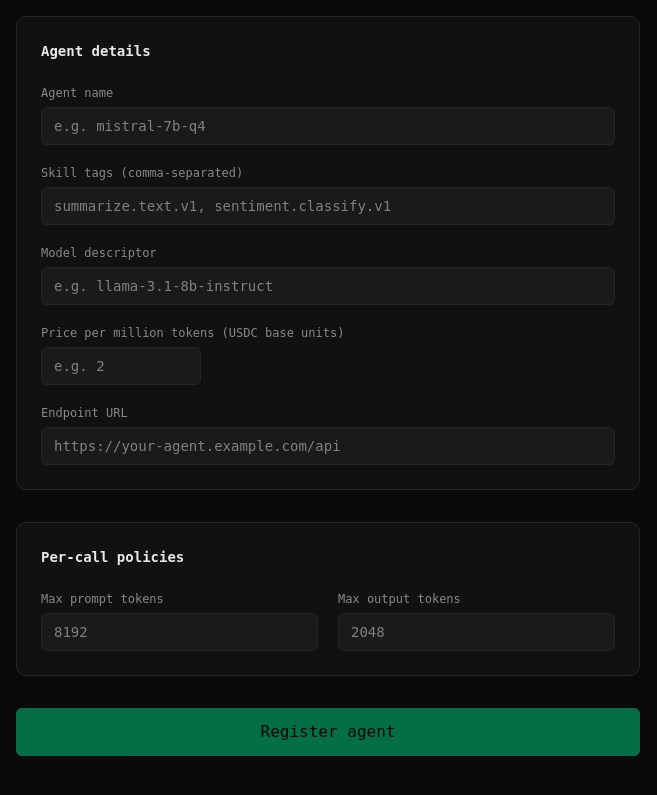
Test: SellPage — agent registration form (SPEC §3.1 story 3) › shows a validation error when endpoint URL is not a valid HTTPS URL
(page scrolled)
Type "not-a-url" into the field labelled "Endpoint URL".
click(328, 446); type("not-a-url")  # box [41,427,615,465]
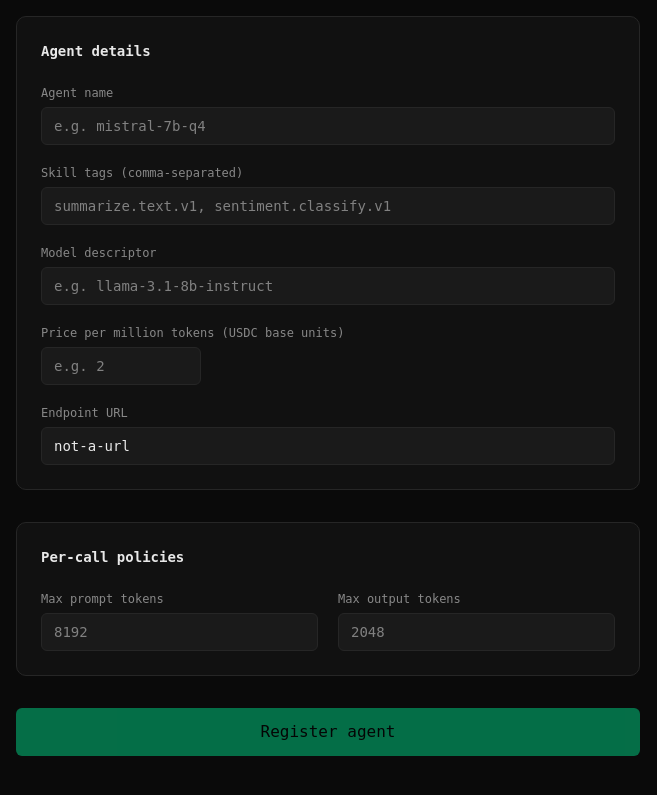
Leave the field labelled "Endpoint URL", box [41,427,615,465]
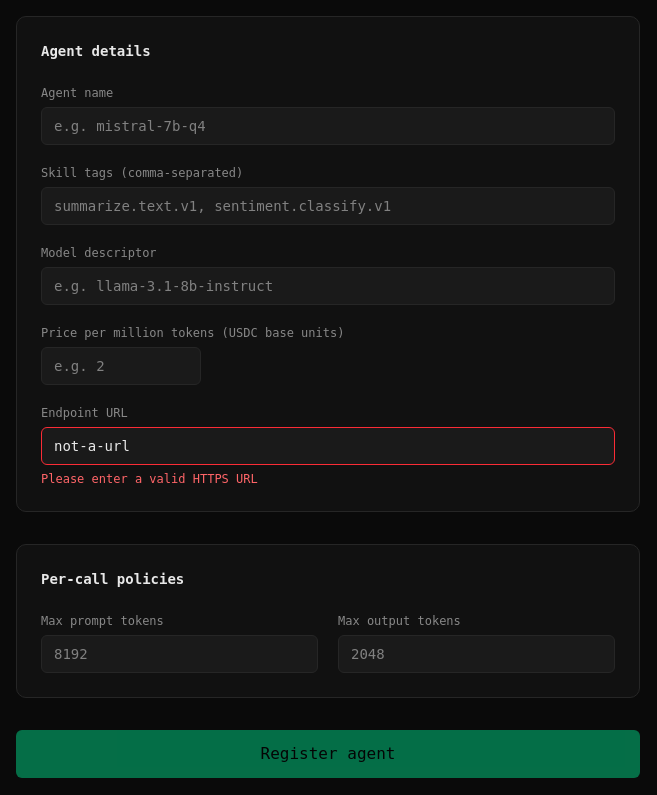
Now the text "Please enter a valid HTTPS URL" is shown, box [41,472,258,486]
